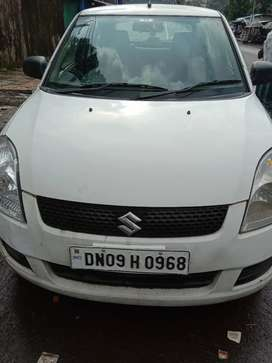DN09H0968: (71, 247, 189, 274)
